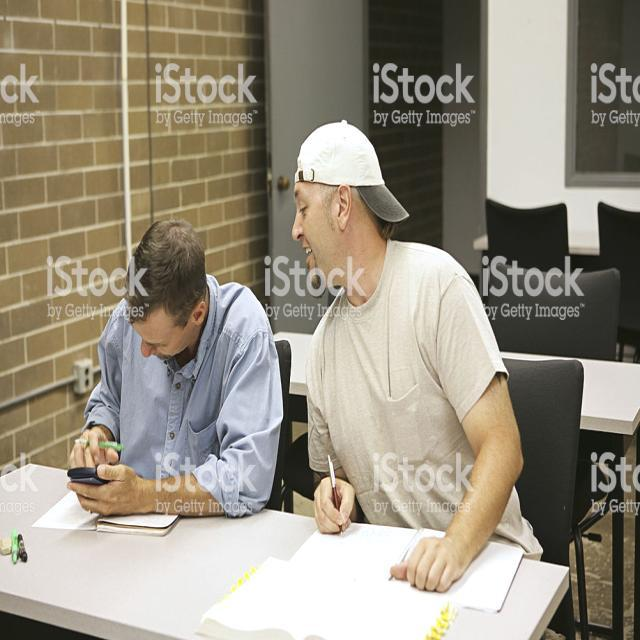cheating: (287, 97, 534, 604)
good: (56, 202, 292, 544)
